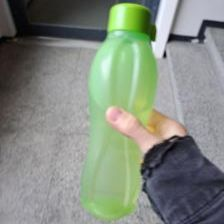bottle: (77, 2, 160, 214)
